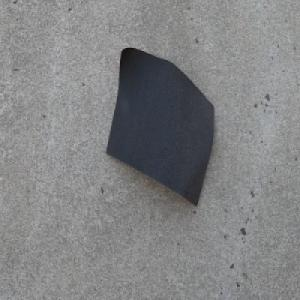PaintChip: (105, 47, 214, 208)
